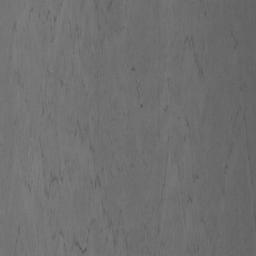Silk spot: (0, 0, 207, 256), (228, 104, 253, 184), (187, 217, 232, 256)
